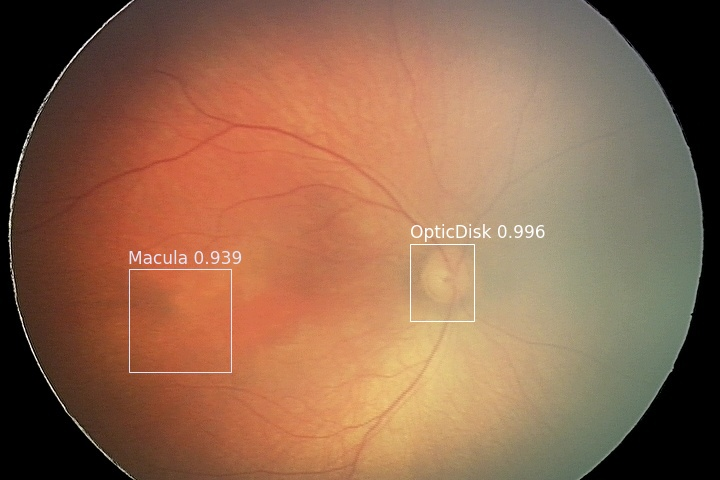Macula: (213, 282, 317, 386)
OpticDisk: (421, 250, 487, 316)
